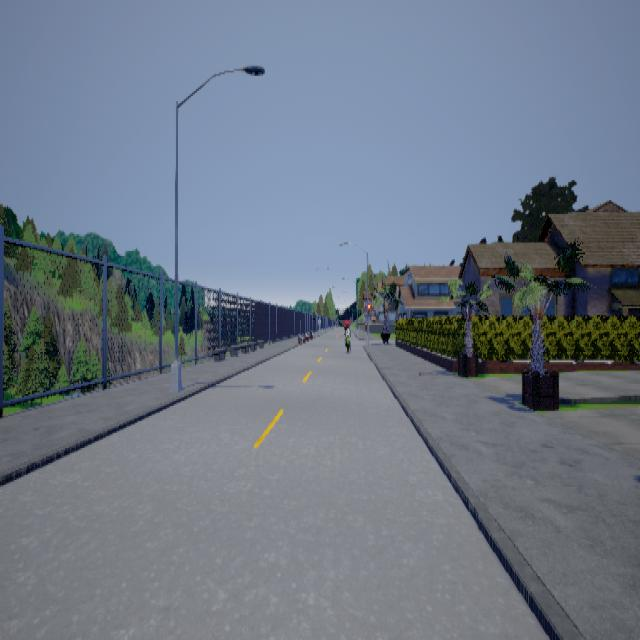motobike: (341, 320, 353, 350)
